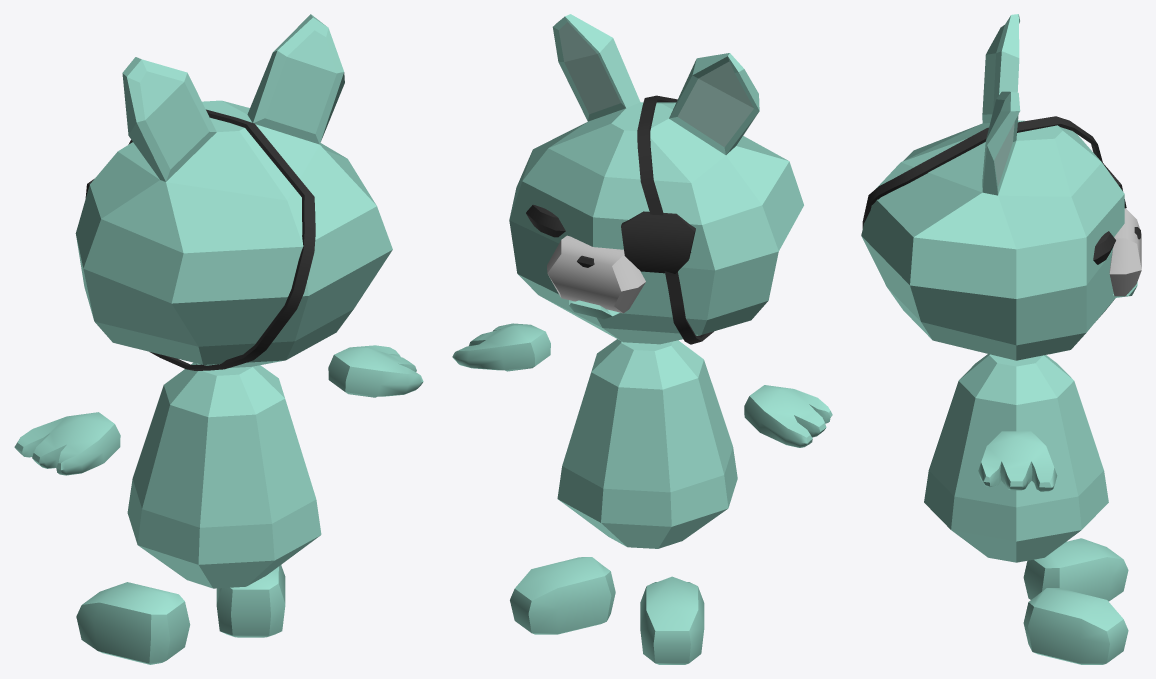
File: Character_FBX.fbx
3 renders of one model, left to right at view 1: azimuth 30°, elevation 25°; view 2: azimuth 150°, elevation 25°; view 3: azimuth 270°, elevation 25°, orthographic. The views are drawn at different scales.
Parts seen in each view (by area): view 1: Head, Body, Left_Foot, Left_Hand, EyePatchStrap, Right_Hand, Right_Foot; view 2: Head, Body, Right_Foot, Left_Foot, NoseBase, Left_Hand, EyePatch, Right_Hand, EyePatchStrap, Eyes; view 3: Head, Body, Right_Foot, Left_Foot, Right_Hand, EyePatchStrap, NoseBase, Eyes.
Boxes of the visible parts, x1,y1,x2,y2 form: Head: (75, 14, 392, 367); Body: (127, 362, 321, 588); Left_Foot: (76, 582, 190, 664); Left_Hand: (14, 412, 120, 475); EyePatchStrap: (128, 109, 315, 370); Right_Hand: (328, 345, 423, 397); Right_Foot: (216, 565, 285, 637); Head: (509, 14, 803, 344); Body: (557, 339, 737, 548); Right_Foot: (510, 557, 615, 634); Left_Foot: (640, 576, 704, 664); NoseBase: (547, 235, 645, 313); Left_Hand: (744, 385, 832, 447); EyePatch: (621, 211, 695, 273); Right_Hand: (452, 323, 550, 371); EyePatchStrap: (637, 95, 713, 344); Eyes: (526, 204, 691, 252); Head: (861, 14, 1124, 360); Body: (924, 354, 1108, 562); Right_Foot: (1023, 588, 1128, 664); Left_Foot: (1023, 538, 1128, 601); Right_Hand: (978, 431, 1057, 491); EyePatchStrap: (862, 116, 1102, 228); NoseBase: (1109, 208, 1141, 296); Eyes: (1093, 231, 1115, 264).
Size of the model in its own units: 230 by 357 by 159.
